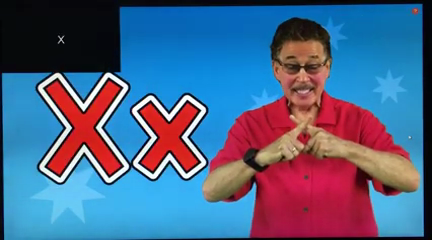X: (261, 104, 359, 174)
